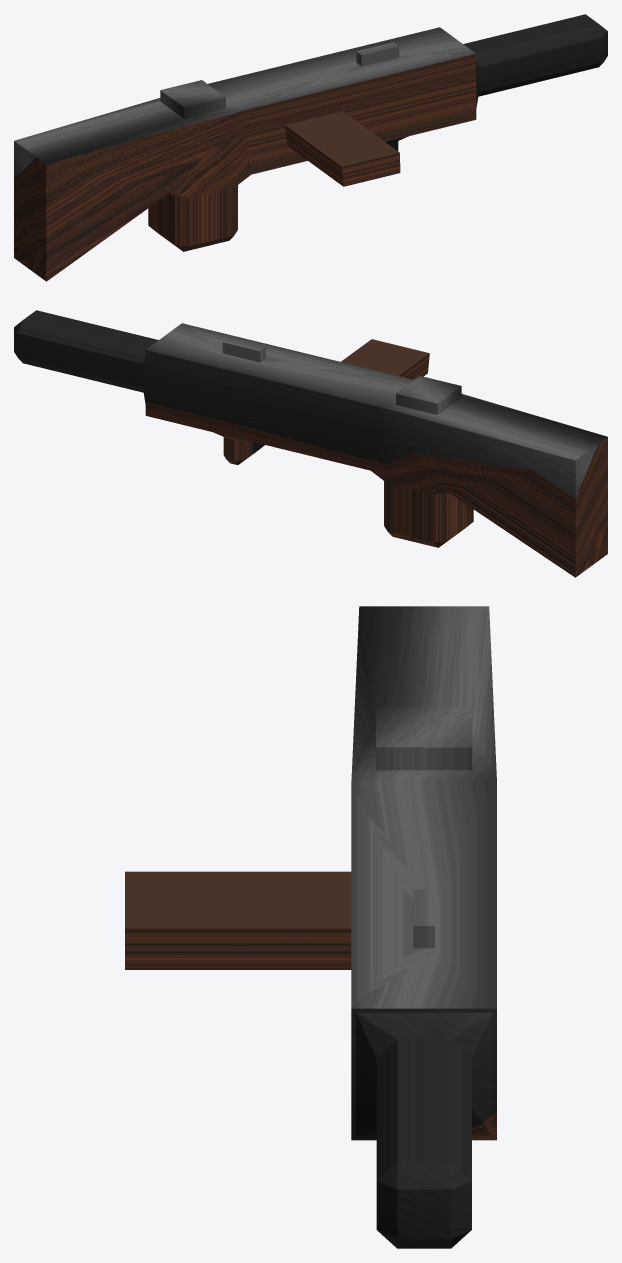
File: rifle.obj
3 views of the same model, one above another, from view 1: azimuth 30°, elevation 25°; view 2: azimuth 150°, elevation 25°; view 3: azimuth 270°, elevation 25° (orthographic). The views are drawn at different scales.
Visible parts, largest first — view 1: Cube_Cube.001; view 2: Cube_Cube.001; view 3: Cube_Cube.001.
Boxes of the visible parts, box(x1,y1,x2,y2) form: Cube_Cube.001: box(14, 14, 607, 281); Cube_Cube.001: box(14, 310, 607, 577); Cube_Cube.001: box(125, 606, 496, 1248).
Bounding box in the file's own units: 18.13 × 4.33 × 5.11.
1 material, 1 textured.
